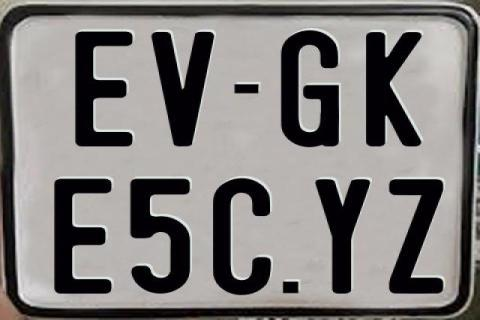0: (128, 179, 190, 297)
C: (210, 177, 272, 297)
E: (72, 31, 132, 148), (54, 177, 112, 292)
G: (281, 29, 343, 149)
K: (365, 31, 423, 149)
V: (148, 31, 213, 145)
Y: (313, 177, 372, 295)
Z: (388, 177, 447, 292)
